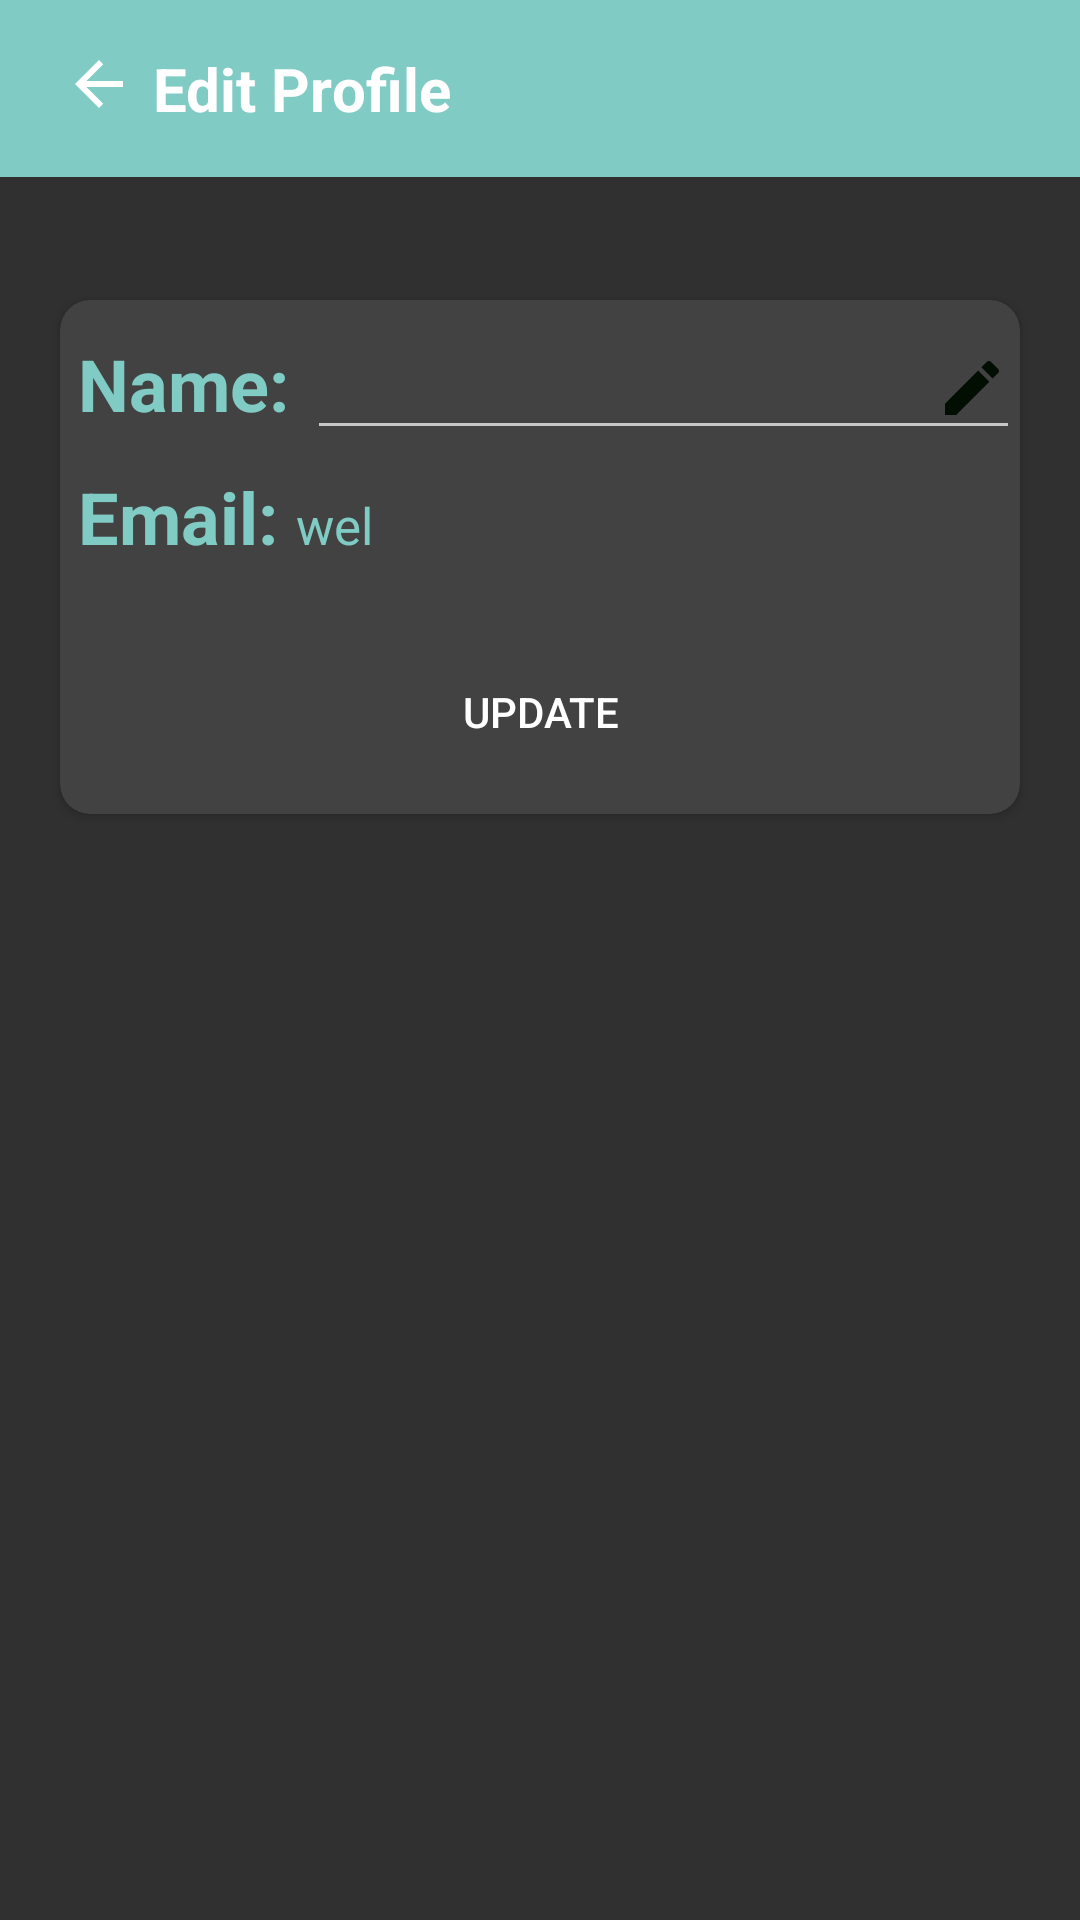

Icon bounding boxes for this 1080w x 1920h phone screenshot, format [x1,y1,x2,y2]:
arrow back: [75,60,123,108]
